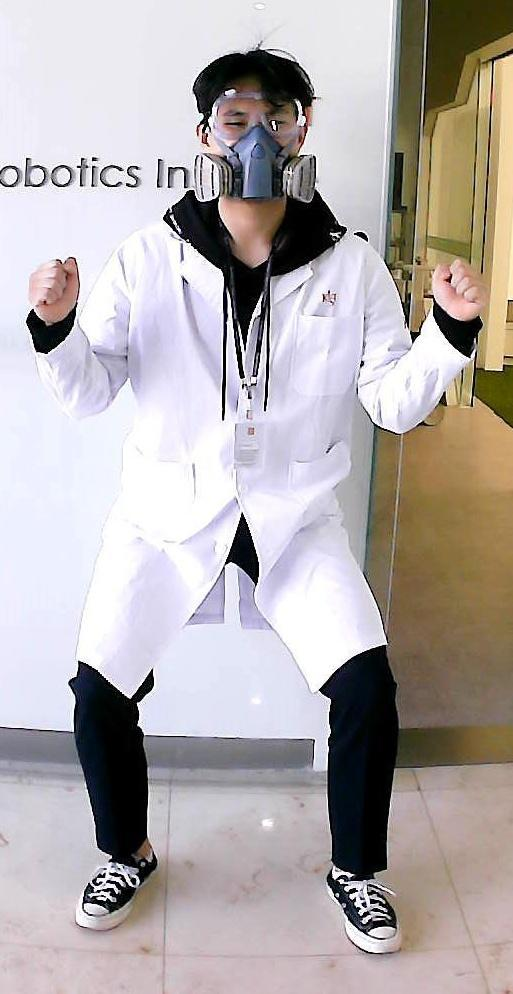lab_coat: (95, 237, 388, 680)
